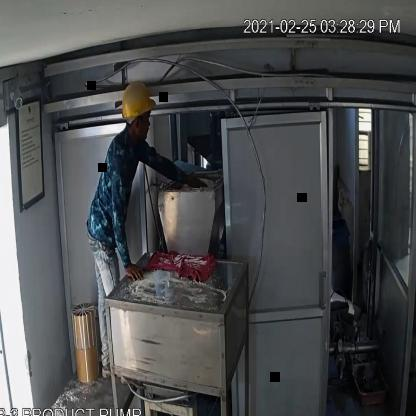helmet: (119, 76, 158, 130)
